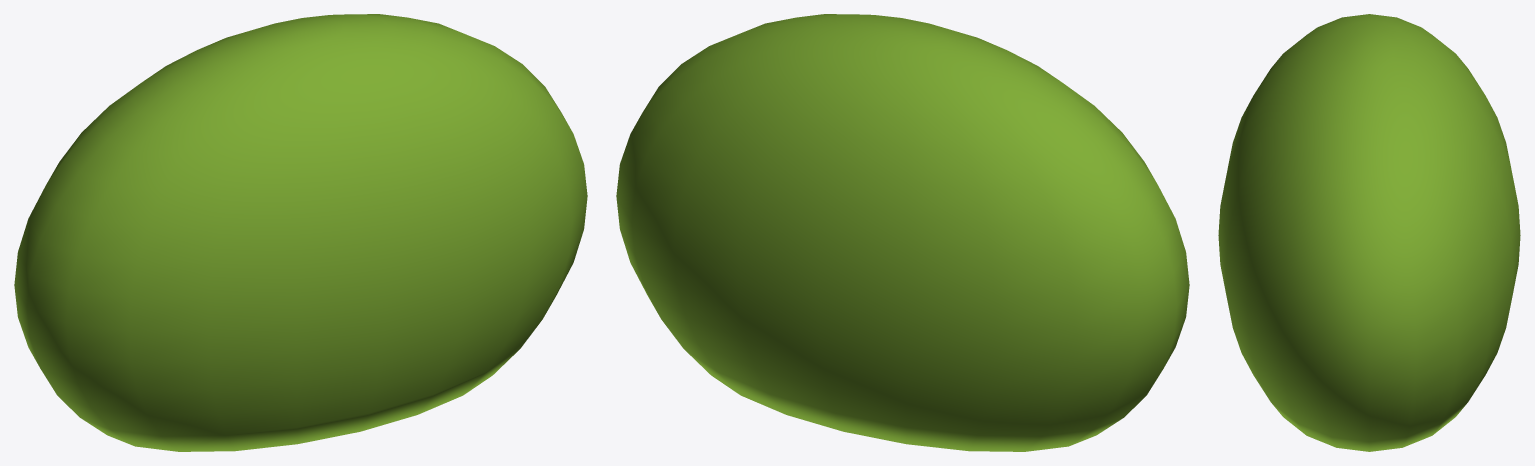
File: bush2.fbx
3 renders of one model, left to right at view 1: azimuth 30°, elevation 25°; view 2: azimuth 150°, elevation 25°; view 3: azimuth 270°, elevation 25°, orthographic. The views are drawn at different scales.
Parts seen in each view (by area): view 1: pSphere1; view 2: pSphere1; view 3: pSphere1.
Boxes of the visible parts, x1,y1,x2,y2 form: pSphere1: (14,14,587,451); pSphere1: (616,14,1189,451); pSphere1: (1218,14,1520,451).
Bounding box in the file's own units: 4.74 × 2.98 × 2.53.
